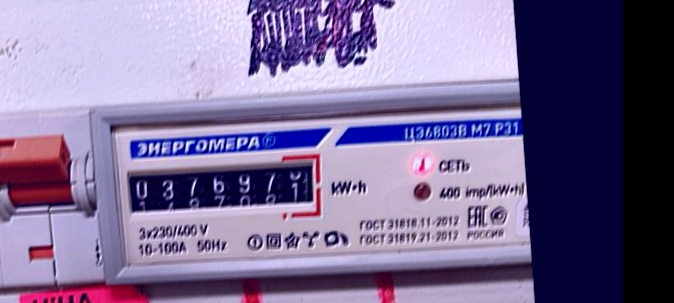0: (131, 179, 149, 201)
1: (288, 183, 300, 204)
3: (158, 180, 174, 204)
6: (210, 174, 224, 196)
7: (184, 175, 199, 200), (261, 171, 275, 195)
9: (235, 173, 249, 196)
screen: (118, 153, 325, 235)
